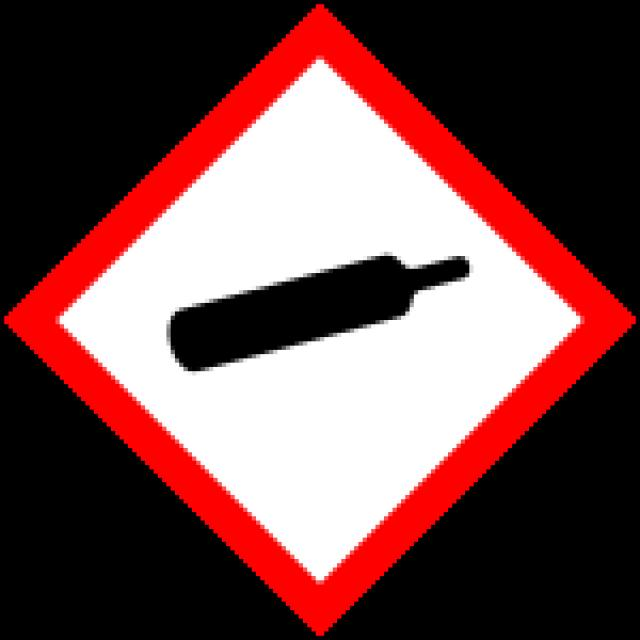GHS04- Compressed Gas: (4, 4, 640, 640)
